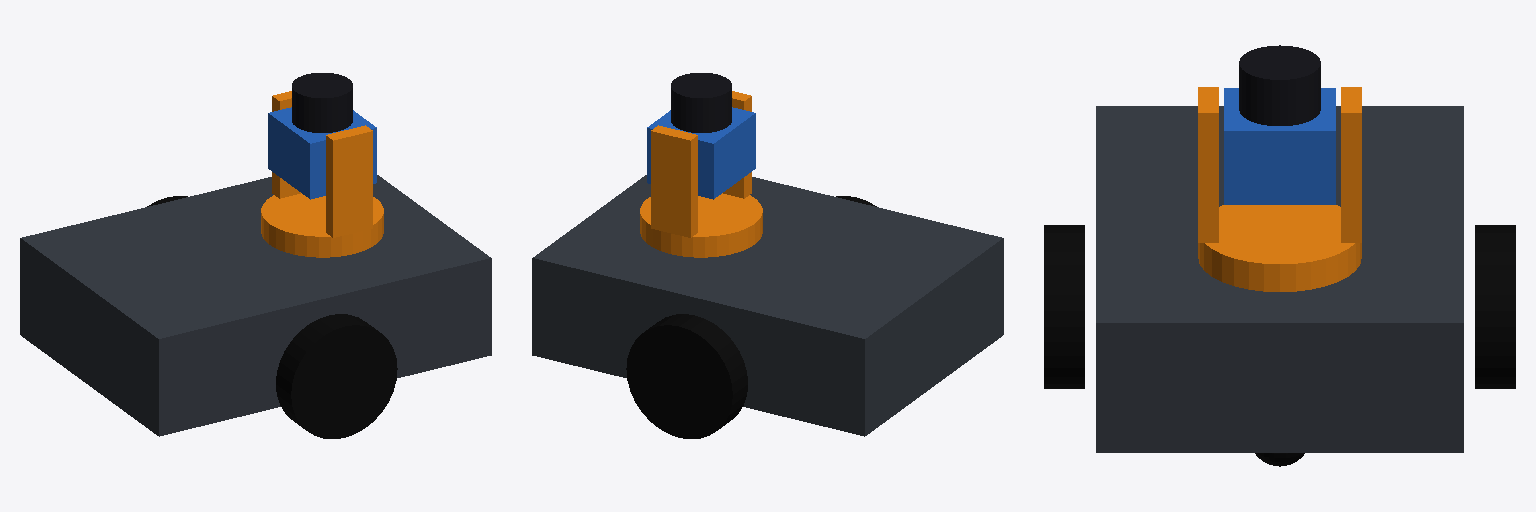
robot.urdf — scout:
<?xml version="1.0"?>
<!--
  scout: a differential drive base with a pan/tilt head carrying a 3D lidar.

  The same file is read by Gazebo and by r3v-renderer. The renderer draws only mesh visuals, so
  every visual is a unit mesh from ../meshes scaled to size (see tools/make_meshes.py), and the
  collisions are the matching primitives. The <gazebo> blocks are ignored outside Gazebo.

  Frames: base_link sits at the wheel axle (0.08 m above the ground), x forward, z up.
  Moving joints: left/right_wheel_joint (continuous), turret_joint (continuous, pan) and
  head_joint (revolute, tilt).
-->
<robot name="scout">
  <link name="base_link">
    <visual>
      <origin xyz="0 0 0.03"/>
      <geometry><mesh filename="package://r3v_sim/meshes/box.stl" scale="0.50 0.36 0.14"/></geometry>
      <material name="body"><color rgba="0.25 0.27 0.30 1"/></material>
    </visual>
    <collision>
      <origin xyz="0 0 0.03"/>
      <geometry><box size="0.50 0.36 0.14"/></geometry>
    </collision>
    <inertial>
      <origin xyz="0 0 0.03"/>
      <mass value="8.0"/>
      <inertia ixx="0.0995" ixy="0" ixz="0" iyy="0.1797" iyz="0" izz="0.2531"/>
    </inertial>
  </link>

  <link name="left_wheel_link">
    <visual>
      <origin rpy="1.5708 0 0"/>
      <geometry><mesh filename="package://r3v_sim/meshes/cylinder.stl" scale="0.08 0.08 0.04"/></geometry>
      <material name="tire"><color rgba="0.08 0.08 0.08 1"/></material>
    </visual>
    <collision>
      <origin rpy="1.5708 0 0"/>
      <geometry><cylinder radius="0.08" length="0.04"/></geometry>
    </collision>
    <inertial>
      <origin rpy="1.5708 0 0"/>
      <mass value="0.5"/>
      <inertia ixx="0.000867" ixy="0" ixz="0" iyy="0.000867" iyz="0" izz="0.0016"/>
    </inertial>
  </link>
  <joint name="left_wheel_joint" type="continuous">
    <parent link="base_link"/>
    <child link="left_wheel_link"/>
    <origin xyz="0 0.21 0"/>
    <axis xyz="0 1 0"/>
  </joint>

  <link name="right_wheel_link">
    <visual>
      <origin rpy="1.5708 0 0"/>
      <geometry><mesh filename="package://r3v_sim/meshes/cylinder.stl" scale="0.08 0.08 0.04"/></geometry>
      <material name="tire"><color rgba="0.08 0.08 0.08 1"/></material>
    </visual>
    <collision>
      <origin rpy="1.5708 0 0"/>
      <geometry><cylinder radius="0.08" length="0.04"/></geometry>
    </collision>
    <inertial>
      <origin rpy="1.5708 0 0"/>
      <mass value="0.5"/>
      <inertia ixx="0.000867" ixy="0" ixz="0" iyy="0.000867" iyz="0" izz="0.0016"/>
    </inertial>
  </link>
  <joint name="right_wheel_joint" type="continuous">
    <parent link="base_link"/>
    <child link="right_wheel_link"/>
    <origin xyz="0 -0.21 0"/>
    <axis xyz="0 1 0"/>
  </joint>

  <!-- Frictionless casters, front and back, touching the ground at the wheels' height. -->
  <link name="front_caster_link">
    <visual>
      <geometry><mesh filename="package://r3v_sim/meshes/sphere.stl" scale="0.03 0.03 0.03"/></geometry>
      <material name="tire"><color rgba="0.08 0.08 0.08 1"/></material>
    </visual>
    <collision>
      <geometry><sphere radius="0.03"/></geometry>
    </collision>
    <inertial>
      <mass value="0.1"/>
      <inertia ixx="0.000036" ixy="0" ixz="0" iyy="0.000036" iyz="0" izz="0.000036"/>
    </inertial>
  </link>
  <joint name="front_caster_joint" type="fixed">
    <parent link="base_link"/>
    <child link="front_caster_link"/>
    <origin xyz="0.19 0 -0.05"/>
  </joint>

  <link name="back_caster_link">
    <visual>
      <geometry><mesh filename="package://r3v_sim/meshes/sphere.stl" scale="0.03 0.03 0.03"/></geometry>
      <material name="tire"><color rgba="0.08 0.08 0.08 1"/></material>
    </visual>
    <collision>
      <geometry><sphere radius="0.03"/></geometry>
    </collision>
    <inertial>
      <mass value="0.1"/>
      <inertia ixx="0.000036" ixy="0" ixz="0" iyy="0.000036" iyz="0" izz="0.000036"/>
    </inertial>
  </link>
  <joint name="back_caster_joint" type="fixed">
    <parent link="base_link"/>
    <child link="back_caster_link"/>
    <origin xyz="-0.19 0 -0.05"/>
  </joint>

  <!-- Turret: a disc with a fork of two plates holding the head. -->
  <link name="turret_link">
    <visual>
      <origin xyz="0 0 0.015"/>
      <geometry><mesh filename="package://r3v_sim/meshes/cylinder.stl" scale="0.08 0.08 0.03"/></geometry>
      <material name="turret"><color rgba="0.95 0.55 0.10 1"/></material>
    </visual>
    <visual>
      <origin xyz="0 0.07 0.10"/>
      <geometry><mesh filename="package://r3v_sim/meshes/box.stl" scale="0.06 0.02 0.14"/></geometry>
      <material name="turret"><color rgba="0.95 0.55 0.10 1"/></material>
    </visual>
    <visual>
      <origin xyz="0 -0.07 0.10"/>
      <geometry><mesh filename="package://r3v_sim/meshes/box.stl" scale="0.06 0.02 0.14"/></geometry>
      <material name="turret"><color rgba="0.95 0.55 0.10 1"/></material>
    </visual>
    <collision>
      <origin xyz="0 0 0.015"/>
      <geometry><cylinder radius="0.08" length="0.03"/></geometry>
    </collision>
    <collision>
      <origin xyz="0 0.07 0.10"/>
      <geometry><box size="0.06 0.02 0.14"/></geometry>
    </collision>
    <collision>
      <origin xyz="0 -0.07 0.10"/>
      <geometry><box size="0.06 0.02 0.14"/></geometry>
    </collision>
    <inertial>
      <origin xyz="0 0 0.06"/>
      <mass value="0.6"/>
      <inertia ixx="0.00273" ixy="0" ixz="0" iyy="0.00273" iyz="0" izz="0.00256"/>
    </inertial>
  </link>
  <joint name="turret_joint" type="continuous">
    <parent link="base_link"/>
    <child link="turret_link"/>
    <origin xyz="0.10 0 0.10"/>
    <axis xyz="0 0 1"/>
  </joint>

  <link name="head_link">
    <visual>
      <geometry><mesh filename="package://r3v_sim/meshes/box.stl" scale="0.10 0.11 0.08"/></geometry>
      <material name="head"><color rgba="0.20 0.45 0.80 1"/></material>
    </visual>
    <collision>
      <geometry><box size="0.10 0.11 0.08"/></geometry>
    </collision>
    <inertial>
      <mass value="0.3"/>
      <inertia ixx="0.000463" ixy="0" ixz="0" iyy="0.000410" iyz="0" izz="0.000553"/>
    </inertial>
  </link>
  <joint name="head_joint" type="revolute">
    <parent link="turret_link"/>
    <child link="head_link"/>
    <origin xyz="0 0 0.12"/>
    <axis xyz="0 1 0"/>
    <limit lower="-0.5" upper="0.5" effort="5" velocity="1.5"/>
  </joint>

  <link name="lidar_link">
    <visual>
      <geometry><mesh filename="package://r3v_sim/meshes/cylinder.stl" scale="0.04 0.04 0.05"/></geometry>
      <material name="sensor"><color rgba="0.12 0.12 0.14 1"/></material>
    </visual>
    <collision>
      <geometry><cylinder radius="0.04" length="0.05"/></geometry>
    </collision>
    <inertial>
      <mass value="0.2"/>
      <inertia ixx="0.000122" ixy="0" ixz="0" iyy="0.000122" iyz="0" izz="0.00016"/>
    </inertial>
  </link>
  <joint name="lidar_joint" type="fixed">
    <parent link="head_link"/>
    <child link="lidar_link"/>
    <origin xyz="0 0 0.065"/>
  </joint>

  <gazebo reference="left_wheel_link"><mu1>1.0</mu1><mu2>1.0</mu2></gazebo>
  <gazebo reference="right_wheel_link"><mu1>1.0</mu1><mu2>1.0</mu2></gazebo>
  <gazebo reference="front_caster_link"><mu1>0.0</mu1><mu2>0.0</mu2></gazebo>
  <gazebo reference="back_caster_link"><mu1>0.0</mu1><mu2>0.0</mu2></gazebo>

  <!--
    16 x 360 rays over 30 x 180 degrees at 10 Hz. Only half of the horizon is covered, so turning
    the turret changes what the lidar sees. The fixed lidar_joint is merged into head_link by the
    URDF to SDF conversion, gz_frame_id keeps the cloud in lidar_link's frame.
  -->
  <gazebo reference="lidar_link">
    <sensor name="lidar" type="gpu_lidar">
      <topic>lidar</topic>
      <gz_frame_id>lidar_link</gz_frame_id>
      <update_rate>10</update_rate>
      <always_on>true</always_on>
      <visualize>true</visualize>
      <lidar>
        <scan>
          <horizontal>
            <samples>360</samples>
            <min_angle>-1.5708</min_angle>
            <max_angle>1.5708</max_angle>
          </horizontal>
          <vertical>
            <samples>16</samples>
            <min_angle>-0.2618</min_angle>
            <max_angle>0.2618</max_angle>
          </vertical>
        </scan>
        <range>
          <min>0.3</min>
          <max>20.0</max>
          <resolution>0.01</resolution>
        </range>
      </lidar>
    </sensor>
  </gazebo>

  <gazebo>
    <plugin filename="gz-sim-diff-drive-system" name="gz::sim::systems::DiffDrive">
      <left_joint>left_wheel_joint</left_joint>
      <right_joint>right_wheel_joint</right_joint>
      <wheel_separation>0.42</wheel_separation>
      <wheel_radius>0.08</wheel_radius>
      <topic>cmd_vel</topic>
      <max_linear_acceleration>1.0</max_linear_acceleration>
      <max_angular_acceleration>2.0</max_angular_acceleration>
    </plugin>
    <!-- Ground truth pose as odom -> base_link; odom is the world frame, so the TF never drifts. -->
    <plugin filename="gz-sim-odometry-publisher-system" name="gz::sim::systems::OdometryPublisher">
      <odom_frame>odom</odom_frame>
      <robot_base_frame>base_link</robot_base_frame>
      <odom_topic>odom</odom_topic>
      <tf_topic>odom/tf</tf_topic>
      <odom_publish_frequency>50</odom_publish_frequency>
      <dimensions>3</dimensions>
    </plugin>
    <plugin filename="gz-sim-joint-state-publisher-system" name="gz::sim::systems::JointStatePublisher">
      <topic>joint_states</topic>
      <update_rate>50</update_rate>
    </plugin>
    <!-- The turret spins at 0.5 rad/s from the start, turret/pan_vel changes the speed. -->
    <plugin filename="gz-sim-joint-controller-system" name="gz::sim::systems::JointController">
      <joint_name>turret_joint</joint_name>
      <topic>turret/pan_vel</topic>
      <initial_velocity>0.5</initial_velocity>
    </plugin>
    <plugin filename="gz-sim-joint-position-controller-system" name="gz::sim::systems::JointPositionController">
      <joint_name>head_joint</joint_name>
      <topic>turret/tilt_pos</topic>
      <p_gain>3.0</p_gain>
      <i_gain>0.5</i_gain>
      <d_gain>0.1</d_gain>
      <i_max>1.0</i_max>
      <i_min>-1.0</i_min>
      <cmd_max>5.0</cmd_max>
      <cmd_min>-5.0</cmd_min>
    </plugin>
  </gazebo>
</robot>

--- Render facts (derived) ---
3 views of the same robot in one strip: view 1: azimuth 30°, elevation 25°; view 2: azimuth 150°, elevation 25°; view 3: azimuth 270°, elevation 25° (orthographic).
Robot: scout — 8 links, 7 joints (1 revolute, 3 continuous, 3 fixed); root link base_link; default pose: all joints at 0.
Links seen in each view (by area): view 1: base_link, right_wheel_link, turret_link, head_link, lidar_link; view 2: base_link, left_wheel_link, turret_link, head_link, lidar_link; view 3: base_link, turret_link, head_link, left_wheel_link, right_wheel_link, lidar_link.
Boxes of the visible links, left/top/right/bottom form: base_link: left=20, top=175, right=491, bottom=436; right_wheel_link: left=276, top=314, right=397, bottom=438; turret_link: left=261, top=91, right=383, bottom=257; head_link: left=268, top=107, right=376, bottom=199; lidar_link: left=292, top=73, right=352, bottom=132; base_link: left=532, top=175, right=1003, bottom=436; left_wheel_link: left=626, top=314, right=747, bottom=438; turret_link: left=640, top=91, right=762, bottom=257; head_link: left=647, top=107, right=755, bottom=199; lidar_link: left=671, top=73, right=731, bottom=132; base_link: left=1096, top=106, right=1463, bottom=452; turret_link: left=1198, top=87, right=1361, bottom=291; head_link: left=1224, top=88, right=1335, bottom=204; left_wheel_link: left=1475, top=225, right=1515, bottom=388; right_wheel_link: left=1044, top=225, right=1084, bottom=388; lidar_link: left=1239, top=45, right=1320, bottom=125.
Size in the robot's own frame: 0.5 by 0.46 by 0.39 metres.
10 mesh visuals loaded from 3 distinct referenced files (3 binary STL).
